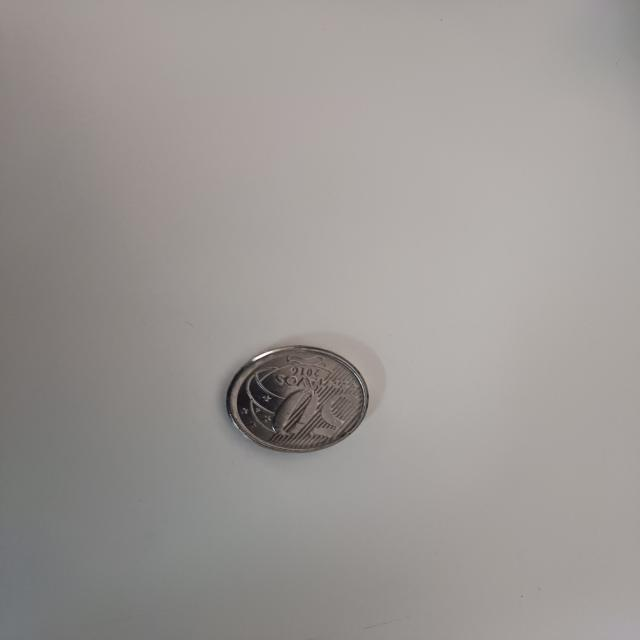50 cents: (227, 344, 371, 456)
